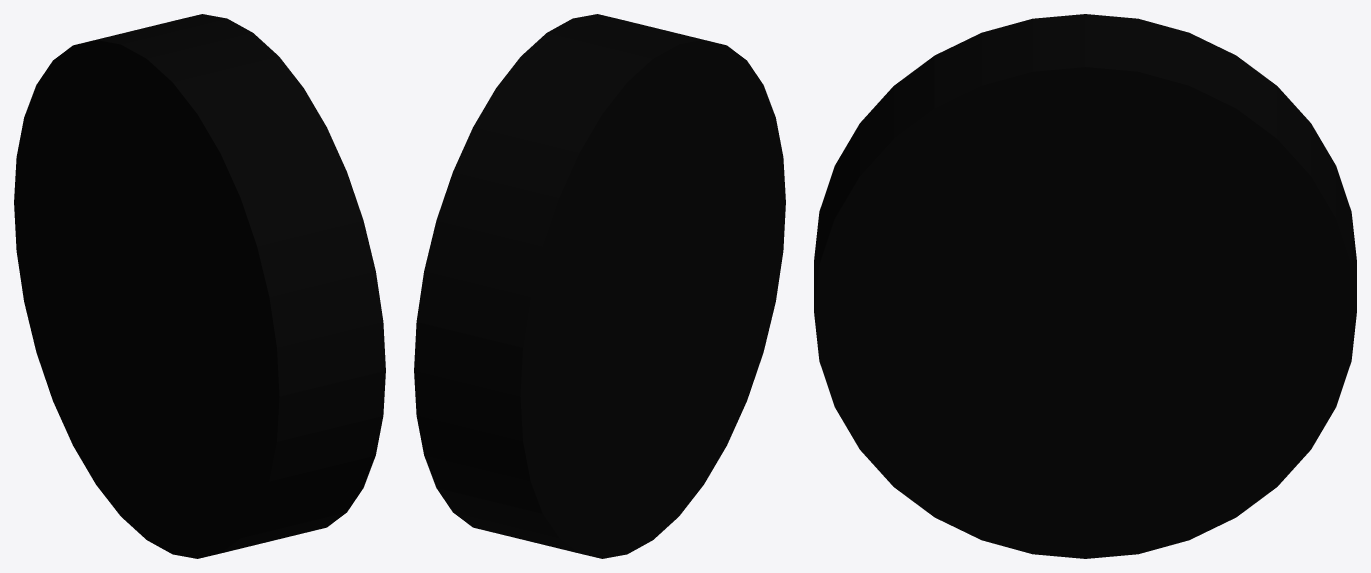
File: WheelFrontLeft.obj
The picture shows the model from 3 angles, left to right: view 1: azimuth 30°, elevation 25°; view 2: azimuth 150°, elevation 25°; view 3: azimuth 270°, elevation 25°; orthographic projection. The views are drawn at different scales.
Visible parts, largest first — view 1: WheelFrontLeft_Cylinder.003; view 2: WheelFrontLeft_Cylinder.003; view 3: WheelFrontLeft_Cylinder.003.
Boxes of the visible parts, x1,y1,x2,y2 form: WheelFrontLeft_Cylinder.003: [14, 14, 385, 558]; WheelFrontLeft_Cylinder.003: [414, 14, 785, 558]; WheelFrontLeft_Cylinder.003: [814, 14, 1356, 558].
Size of the model in its own units: 0.5 by 2.16 by 2.16.
Materials: 1 (1 with a texture image).
